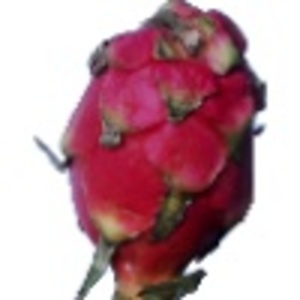pitaia: (35, 1, 276, 300)
